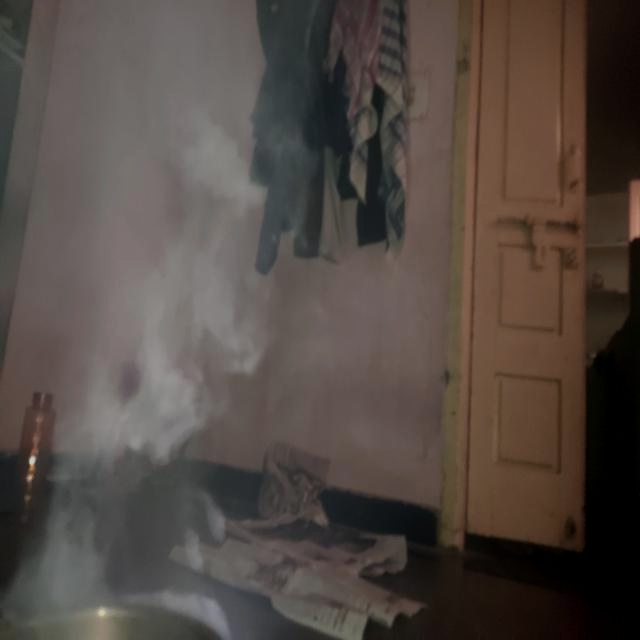smoke: (71, 207, 267, 547)
